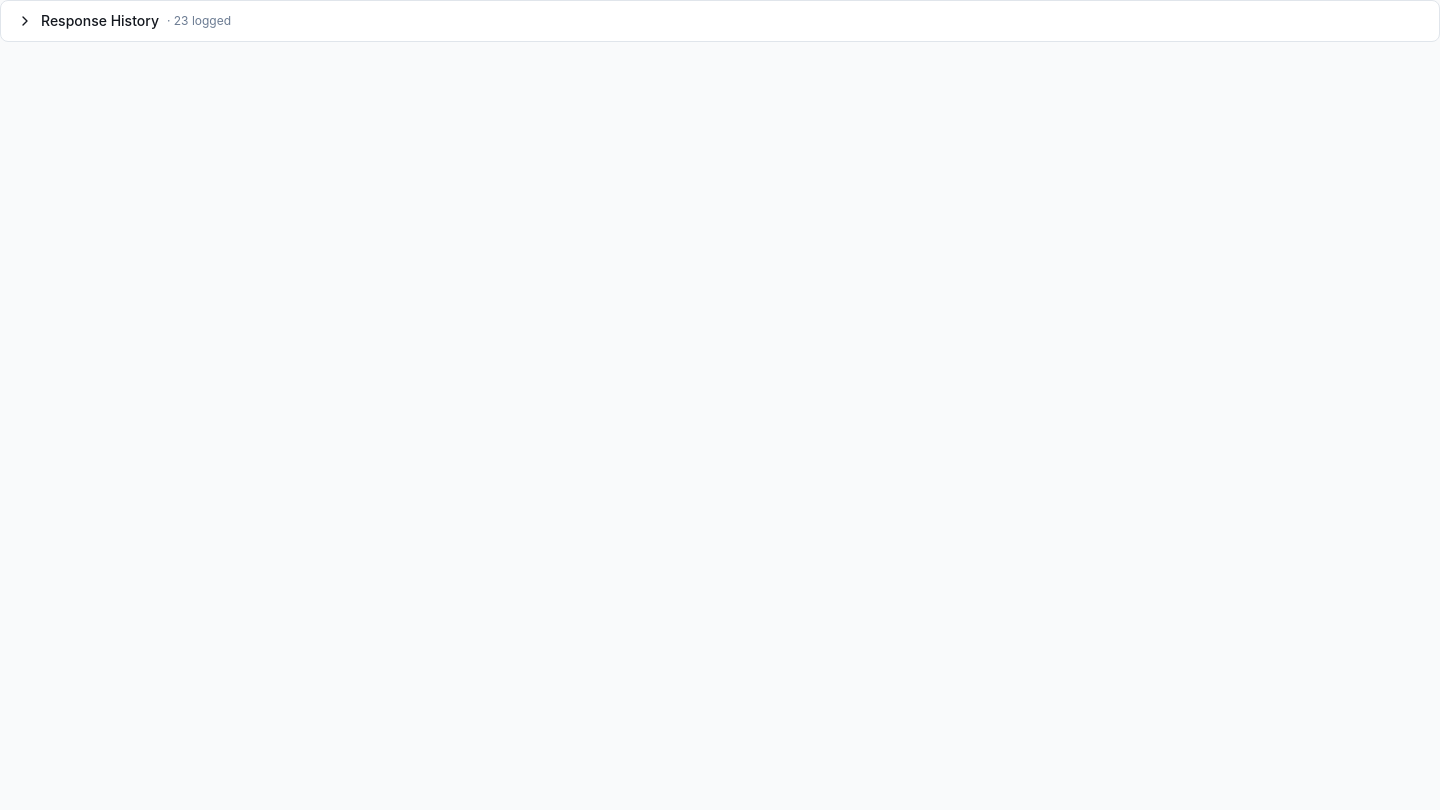
ResponseHistoryPanel — table, filters and paging › re-sorts when a column header is clicked
Click the button "Response History · 23 logged" at (100, 20), box [1, 1, 1439, 41]
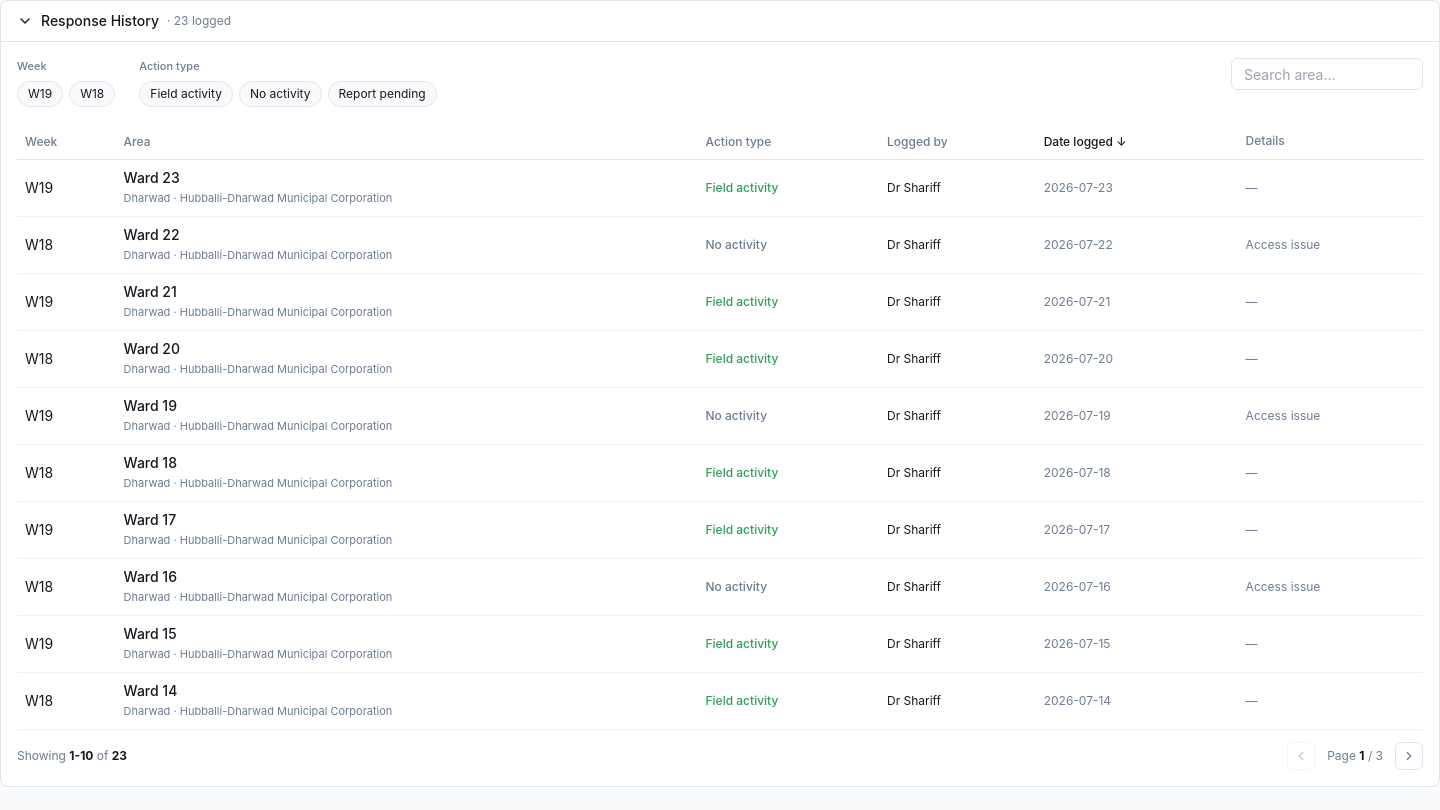
Click the button with aria-label "Sort by Area" at (137, 142), box [124, 134, 150, 150]
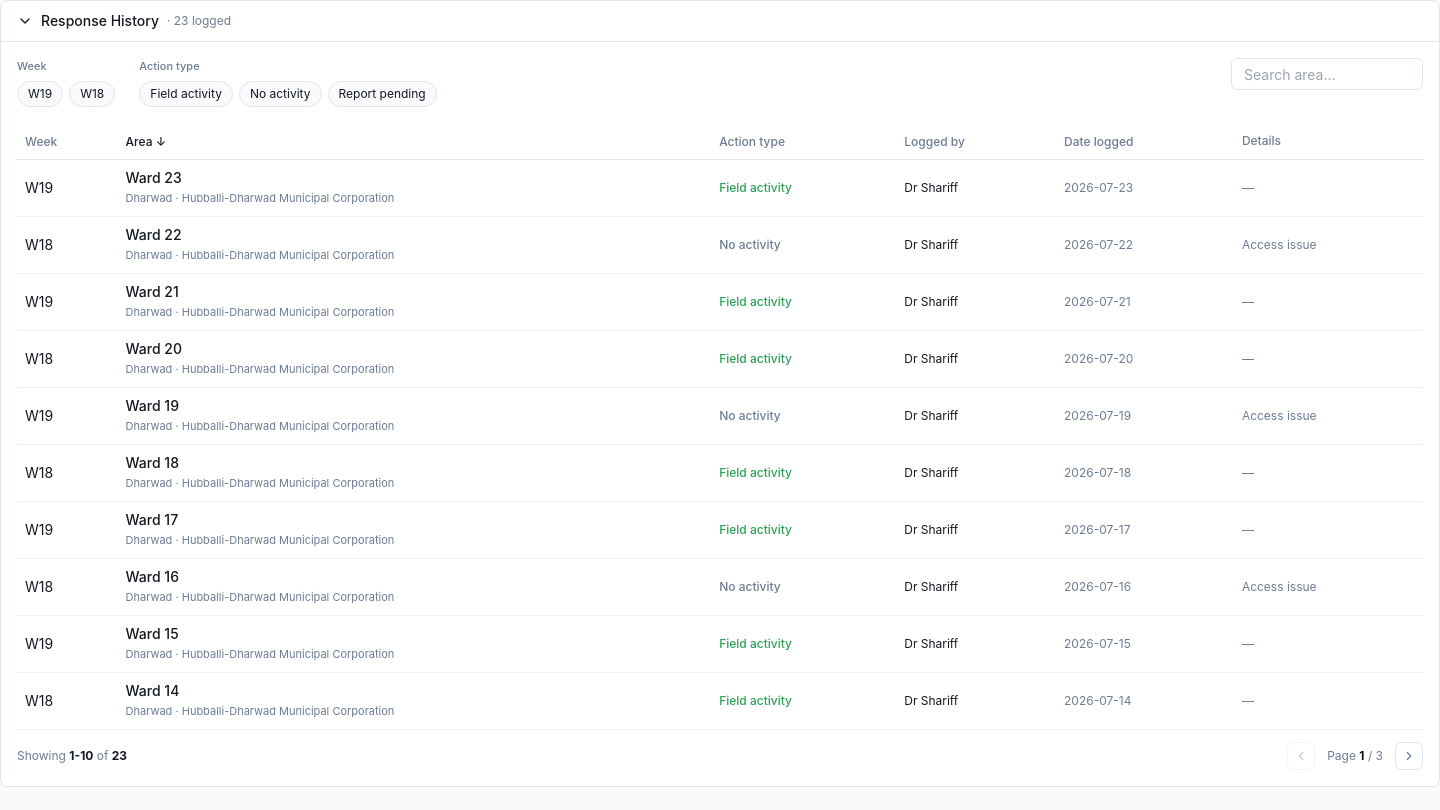
Expected: the text "Ward 23" is shown, [126, 168, 182, 186]
Click the button with aria-label "Sort by Area" at (146, 142), box [126, 134, 166, 150]
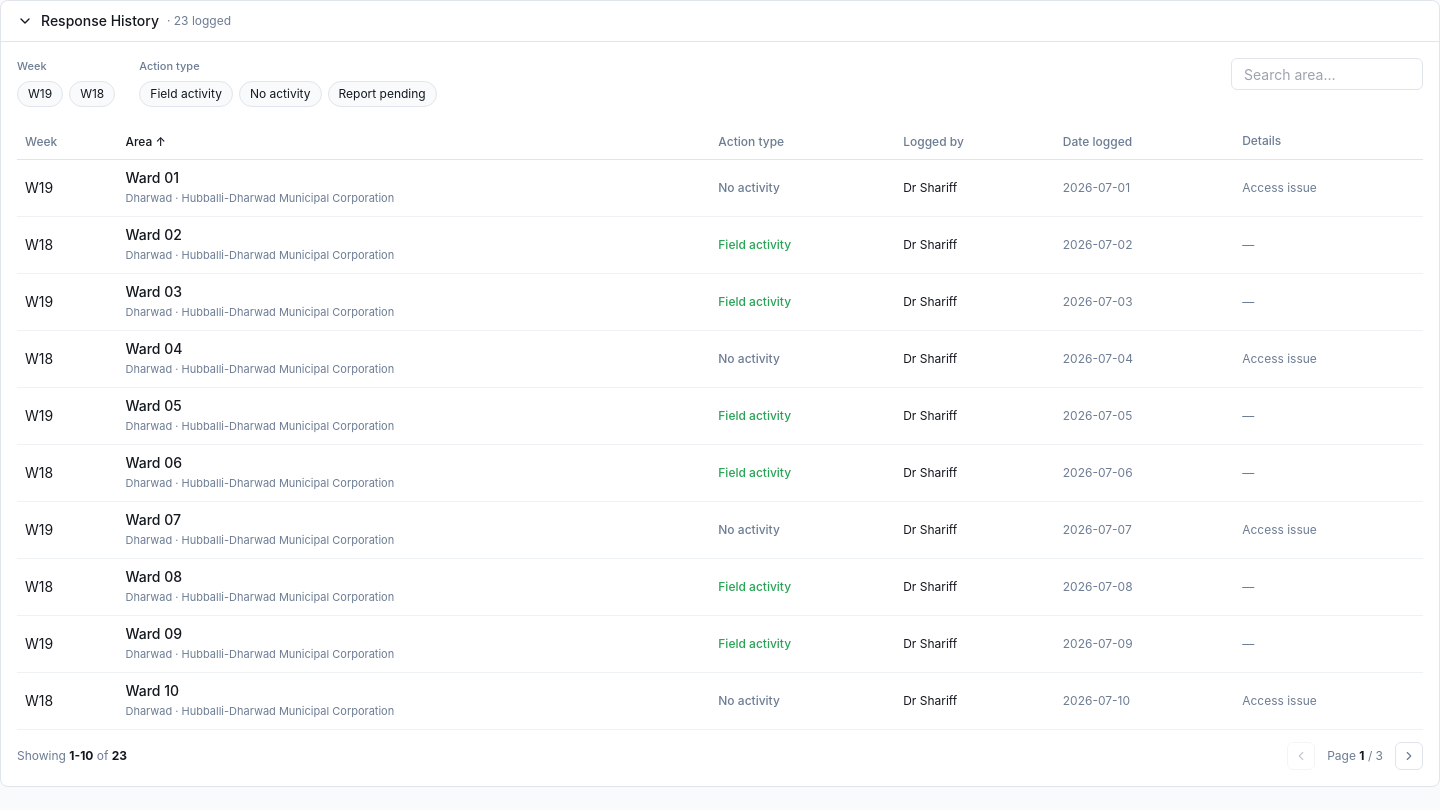
Expected: the text "Ward 01" is shown, [126, 168, 179, 186]
